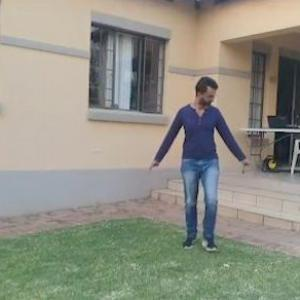land: (140, 68, 259, 263)
